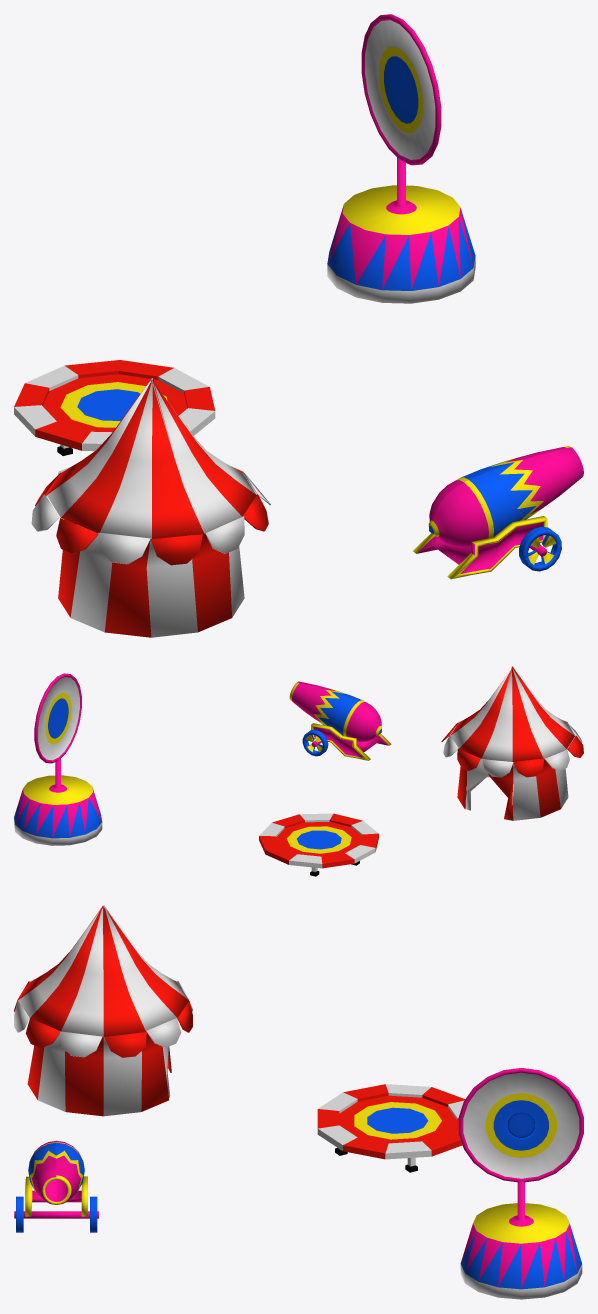
File: tent.fbx
3 renders of one model, top to bottom at view 1: azimuth 30°, elevation 25°; view 2: azimuth 150°, elevation 25°; view 3: azimuth 270°, elevation 25°, orthographic. The views are drawn at different scales.
Visible parts, largest first — view 1: Cylinder, Torus, Cylinder.003, Cylinder.001; view 2: Cylinder, Torus, Cylinder.001, Cylinder.003; view 3: Cylinder, Torus, Cylinder.001, Cylinder.003.
Part boxes in pixels (x1=…): Cylinder: x1=31, y1=378, x2=270, y2=637; Torus: x1=327, y1=14, x2=475, y2=303; Cylinder.003: x1=413, y1=446, x2=583, y2=579; Cylinder.001: x1=14, y1=360, x2=215, y2=455; Cylinder: x1=441, y1=666, x2=583, y2=820; Torus: x1=14, y1=673, x2=102, y2=845; Cylinder.001: x1=259, y1=813, x2=378, y2=876; Cylinder.003: x1=289, y1=681, x2=391, y2=760; Cylinder: x1=14, y1=905, x2=192, y2=1116; Torus: x1=458, y1=1068, x2=583, y2=1299; Cylinder.001: x1=317, y1=1084, x2=464, y2=1172; Cylinder.003: x1=14, y1=1140, x2=98, y2=1232.
Bounding box in the file's own units: 1042 × 417 × 937.
